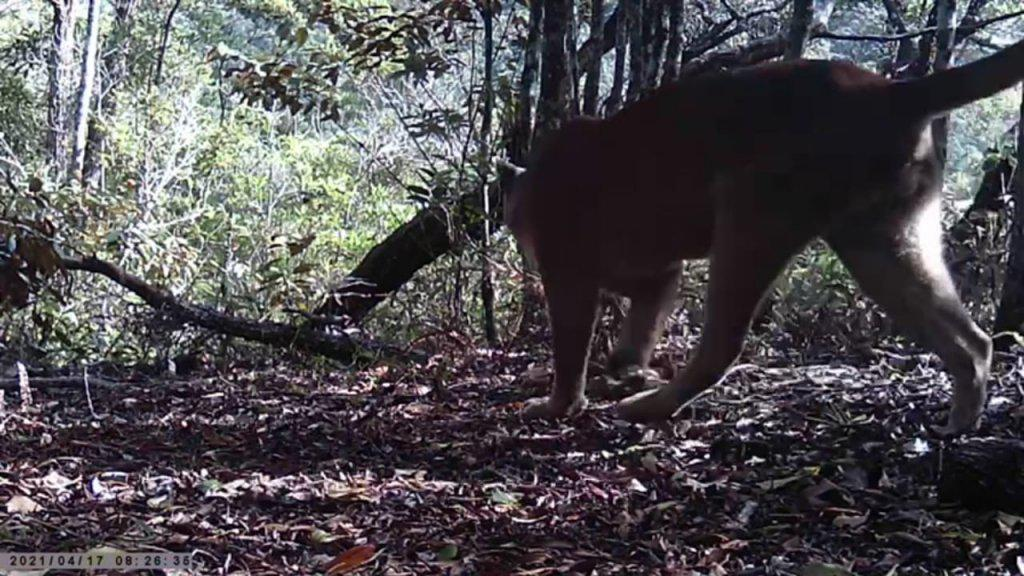OncaParda: (476, 44, 1010, 442)
